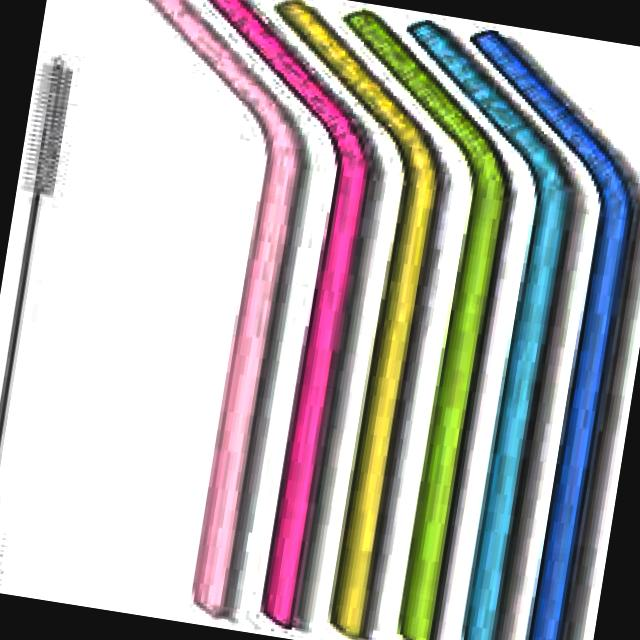plastic straw: (348, 11, 508, 640), (281, 1, 438, 636), (211, 0, 370, 625), (476, 32, 632, 640), (420, 23, 568, 640), (152, 0, 301, 612)
